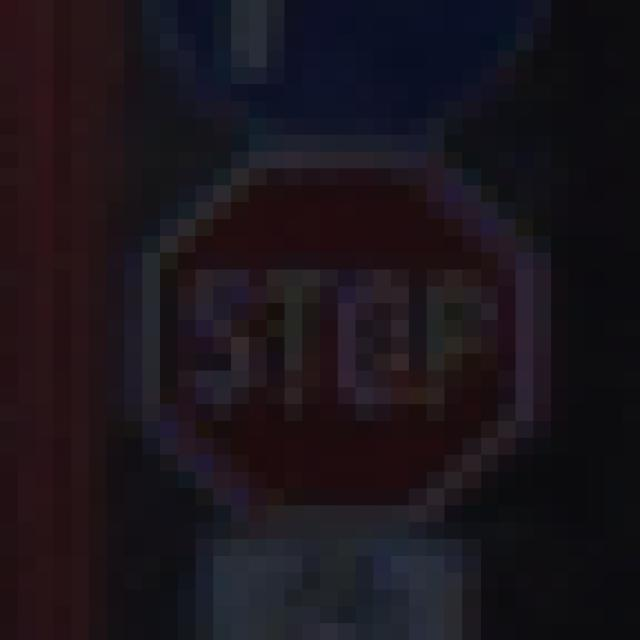STOP: (90, 102, 552, 557)
